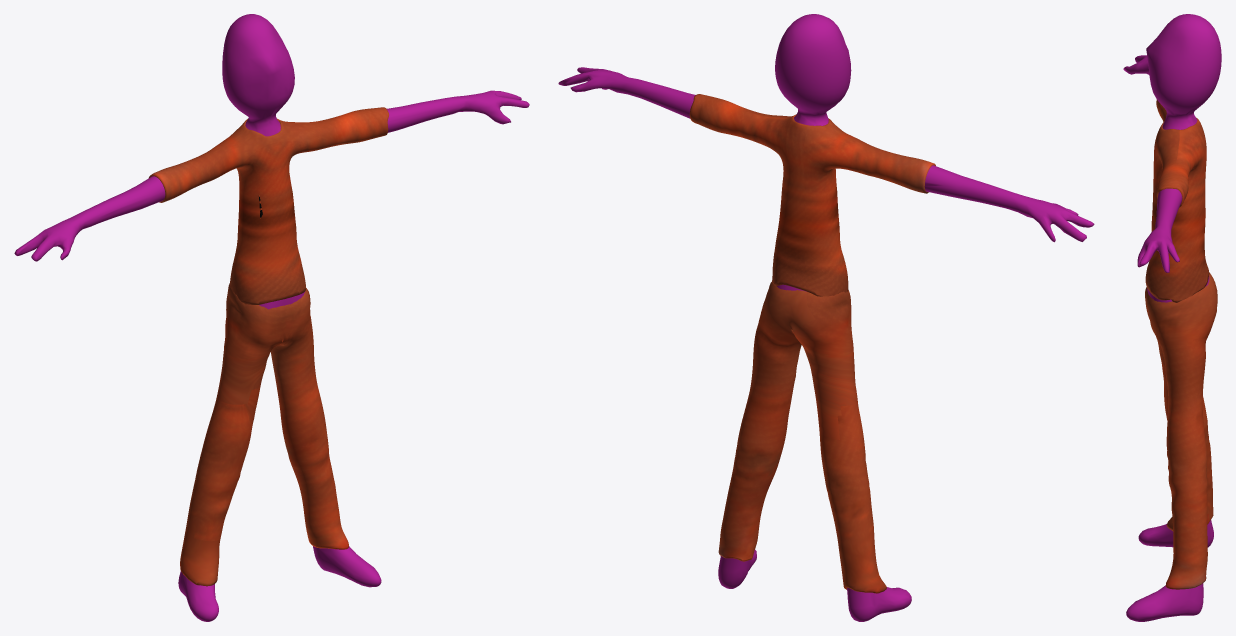
File: StickFigurea.obj
3 renders of one model, left to right at view 1: azimuth 30°, elevation 25°; view 2: azimuth 150°, elevation 25°; view 3: azimuth 270°, elevation 25°, orthographic. The views are drawn at different scales.
Visible parts, largest first — view 1: zbrushstickfigurBodysd; view 2: zbrushstickfigurBodysd; view 3: zbrushstickfigurBodysd.
Part boxes in pixels (x1=…): zbrushstickfigurBodysd: x1=14, y1=14, x2=529, y2=621; zbrushstickfigurBodysd: x1=558, y1=14, x2=1094, y2=621; zbrushstickfigurBodysd: x1=1123, y1=14, x2=1221, y2=621.
Bounding box in the file's own units: 79.75 × 85.78 × 13.65.
